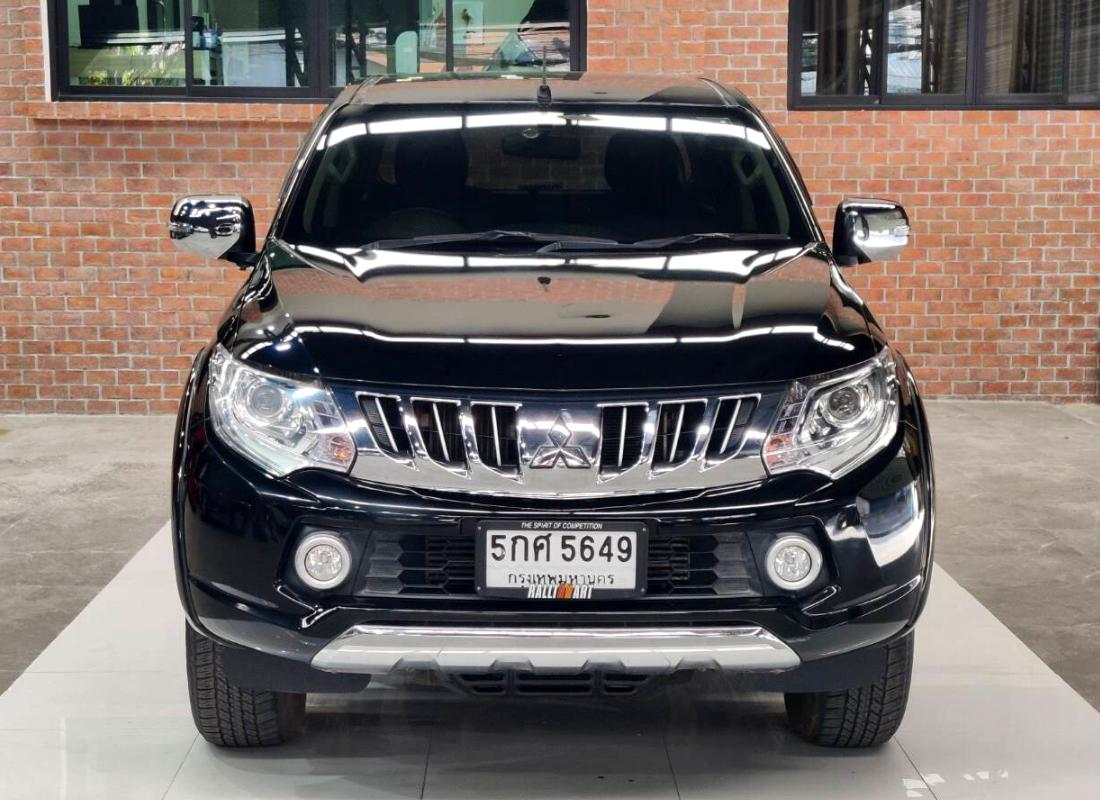license-plate: (477, 520, 650, 600)
